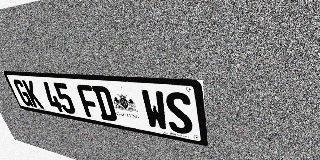4: (40, 81, 64, 112)
5: (53, 82, 77, 115)
D: (91, 85, 118, 122)
F: (76, 84, 101, 119)
G: (12, 79, 34, 107)
K: (22, 80, 44, 109)
S: (164, 91, 194, 136)
W: (140, 89, 169, 131)
